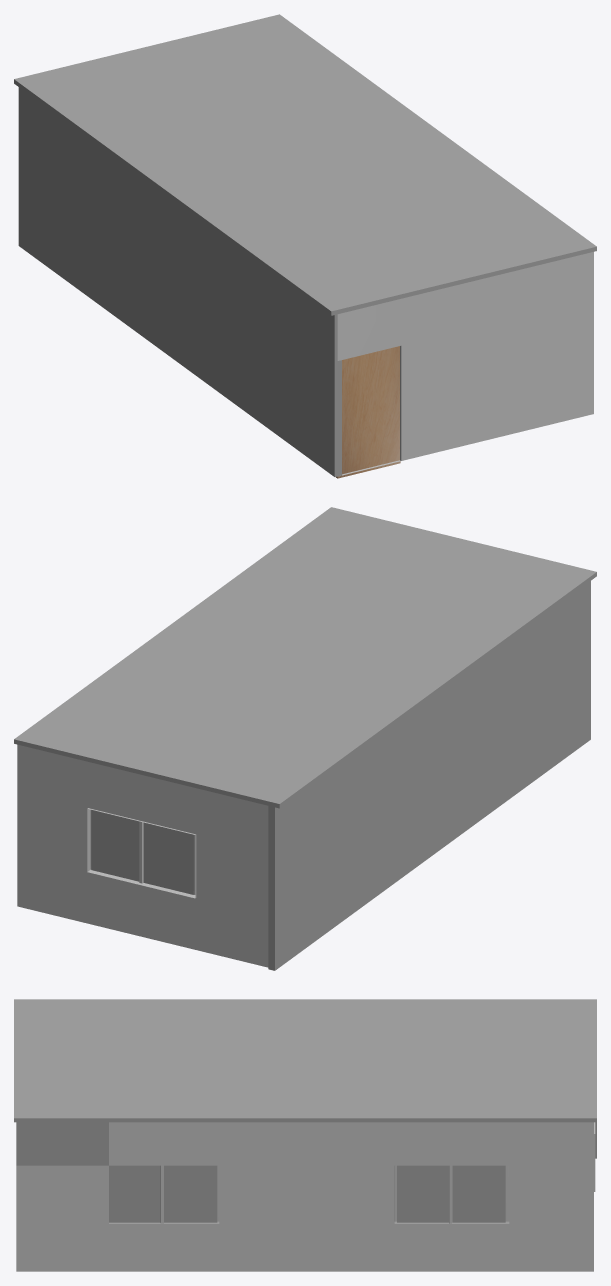
File: Play Room.fbx
The picture shows the model from 3 angles, top to bottom: view 1: azimuth 30°, elevation 25°; view 2: azimuth 150°, elevation 25°; view 3: azimuth 270°, elevation 25°; orthographic projection. The views are drawn at different scales.
Visible parts, largest first — view 1: Play_Room, Door1; view 2: Play_Room; view 3: Play_Room.
Part boxes in pixels (x1,y1,x2,y2): Play_Room: (14, 14, 596, 476); Door1: (336, 346, 400, 478); Play_Room: (14, 507, 596, 970); Play_Room: (14, 999, 596, 1271).
Size of the model in its own units: 1222 by 752 by 2527.
